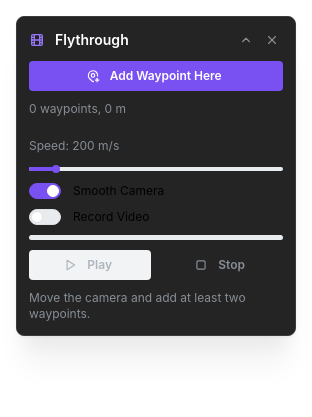
FlythroughPanel › drops a removed waypoint
Click the button "Add Waypoint Here".
click(156, 76)  # box [29,61,283,91]
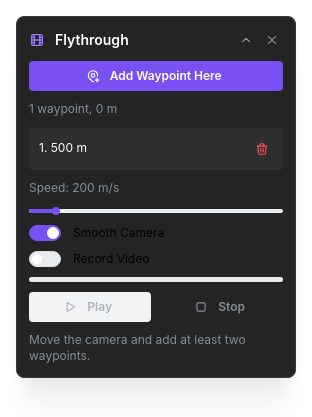
Click the button "Add Waypoint Here".
click(156, 76)  # box [29,61,283,91]
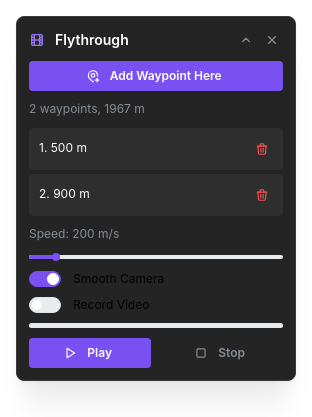
Click the button named "Remove waypoint 1".
click(262, 149)  # box [251,138,273,160]
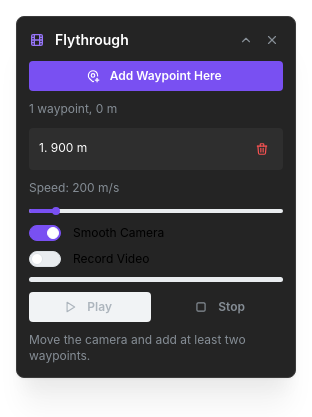
expect the number of elements with test id "flythrough-waypoint" is 1: met, box [29,128,283,170]
expect the element with test id "flythrough-waypoint" reads "1. 900 m": met, box [29,128,283,170]
